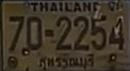0: (26, 16, 43, 51)
2: (56, 16, 71, 50), (73, 16, 88, 50)
4: (108, 16, 123, 49)
5: (90, 14, 106, 50)
7: (8, 15, 24, 51)
SPB: (37, 53, 96, 71)
